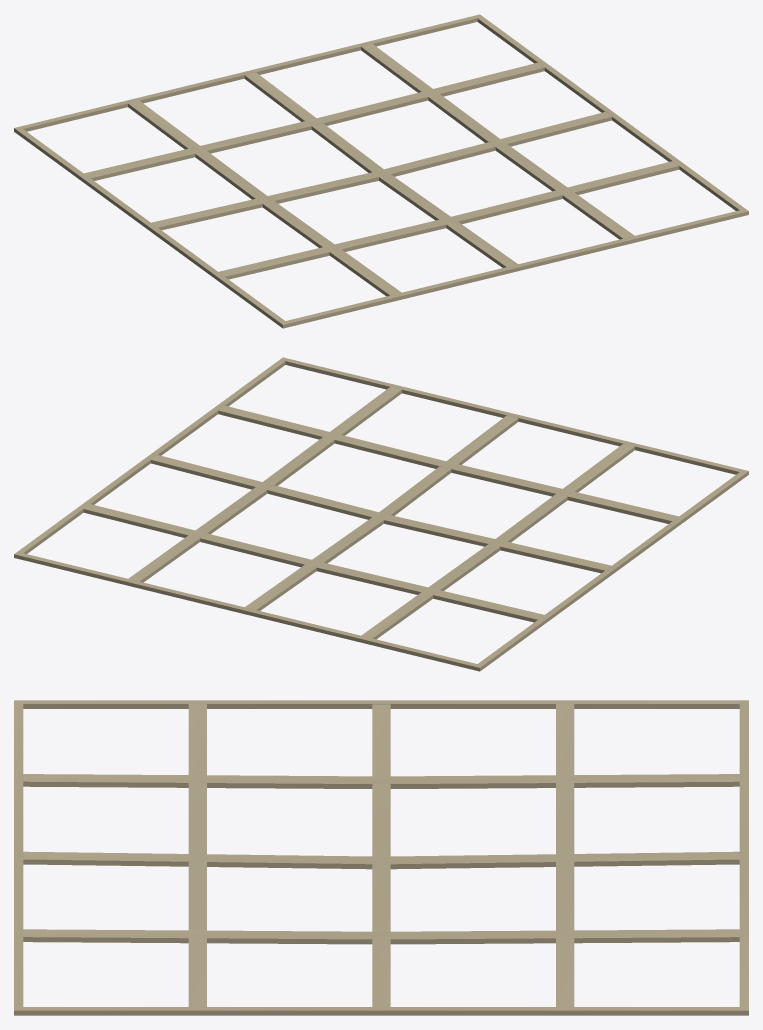
The model's file is net_tile.glb.
3 renders of one model, top to bottom at view 1: azimuth 30°, elevation 25°; view 2: azimuth 150°, elevation 25°; view 3: azimuth 270°, elevation 25°, orthographic. The views are drawn at different scales.
Visible parts, largest first — view 1: Weave; view 2: Weave; view 3: Weave.
Part boxes in pixels (x1,y1,x2,y2): Weave: [14, 14, 748, 328]; Weave: [14, 357, 748, 671]; Weave: [14, 700, 748, 1015].
Size of the model in its own units: 4 by 0.06 by 4.
